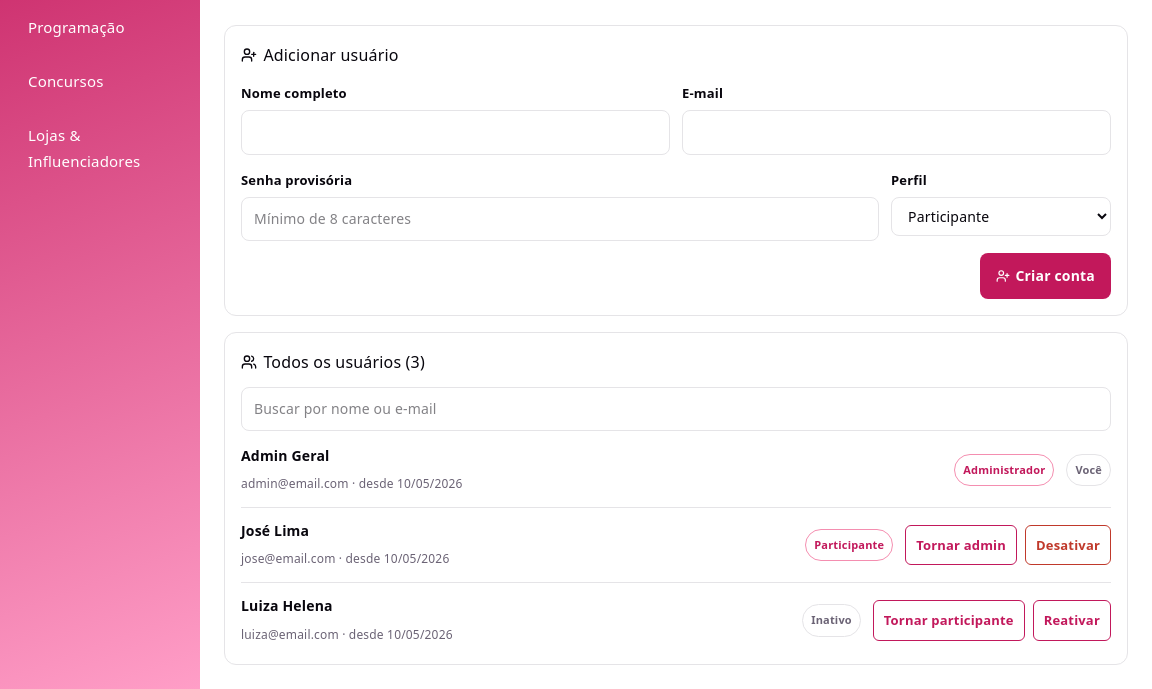
Test: AdminUsers › torna um participante administrador
(page scrolled)
Click the button "Tornar admin". click: (961, 545)
box: [905,525,1017,565]
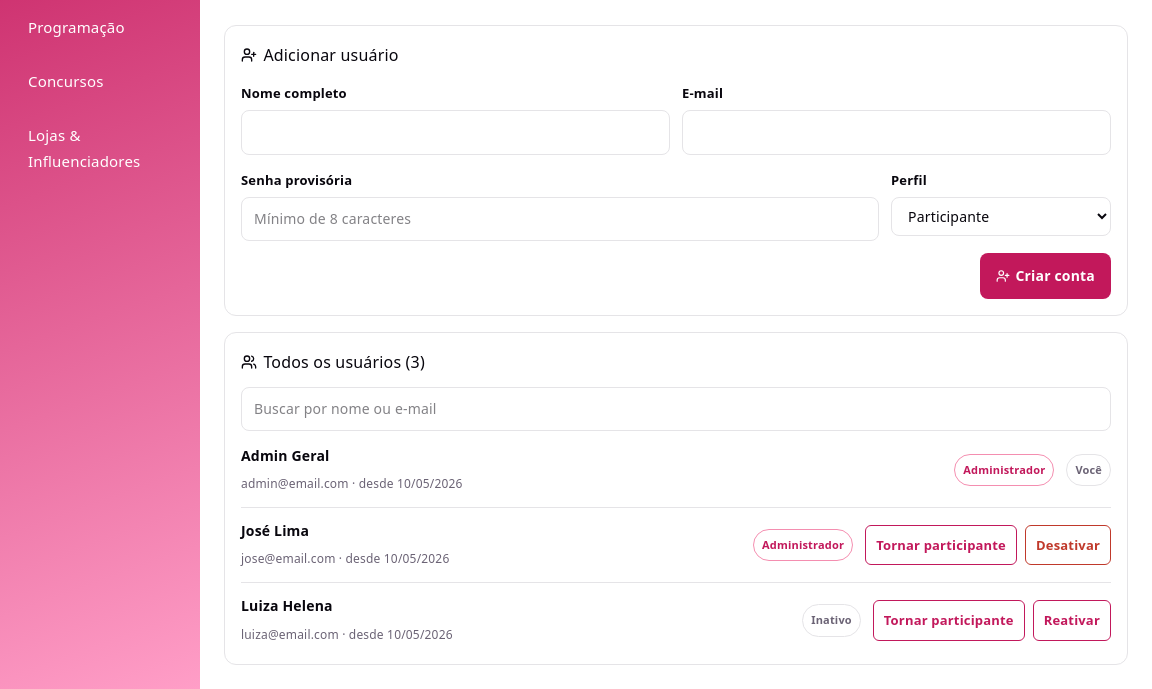
Check: the button "Tornar participante" in the row of "José Lima" is shown, box [865,525,1017,565]
